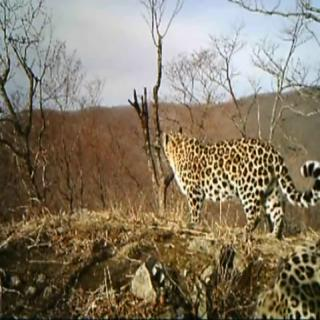Leopard: (142, 112, 308, 243)
